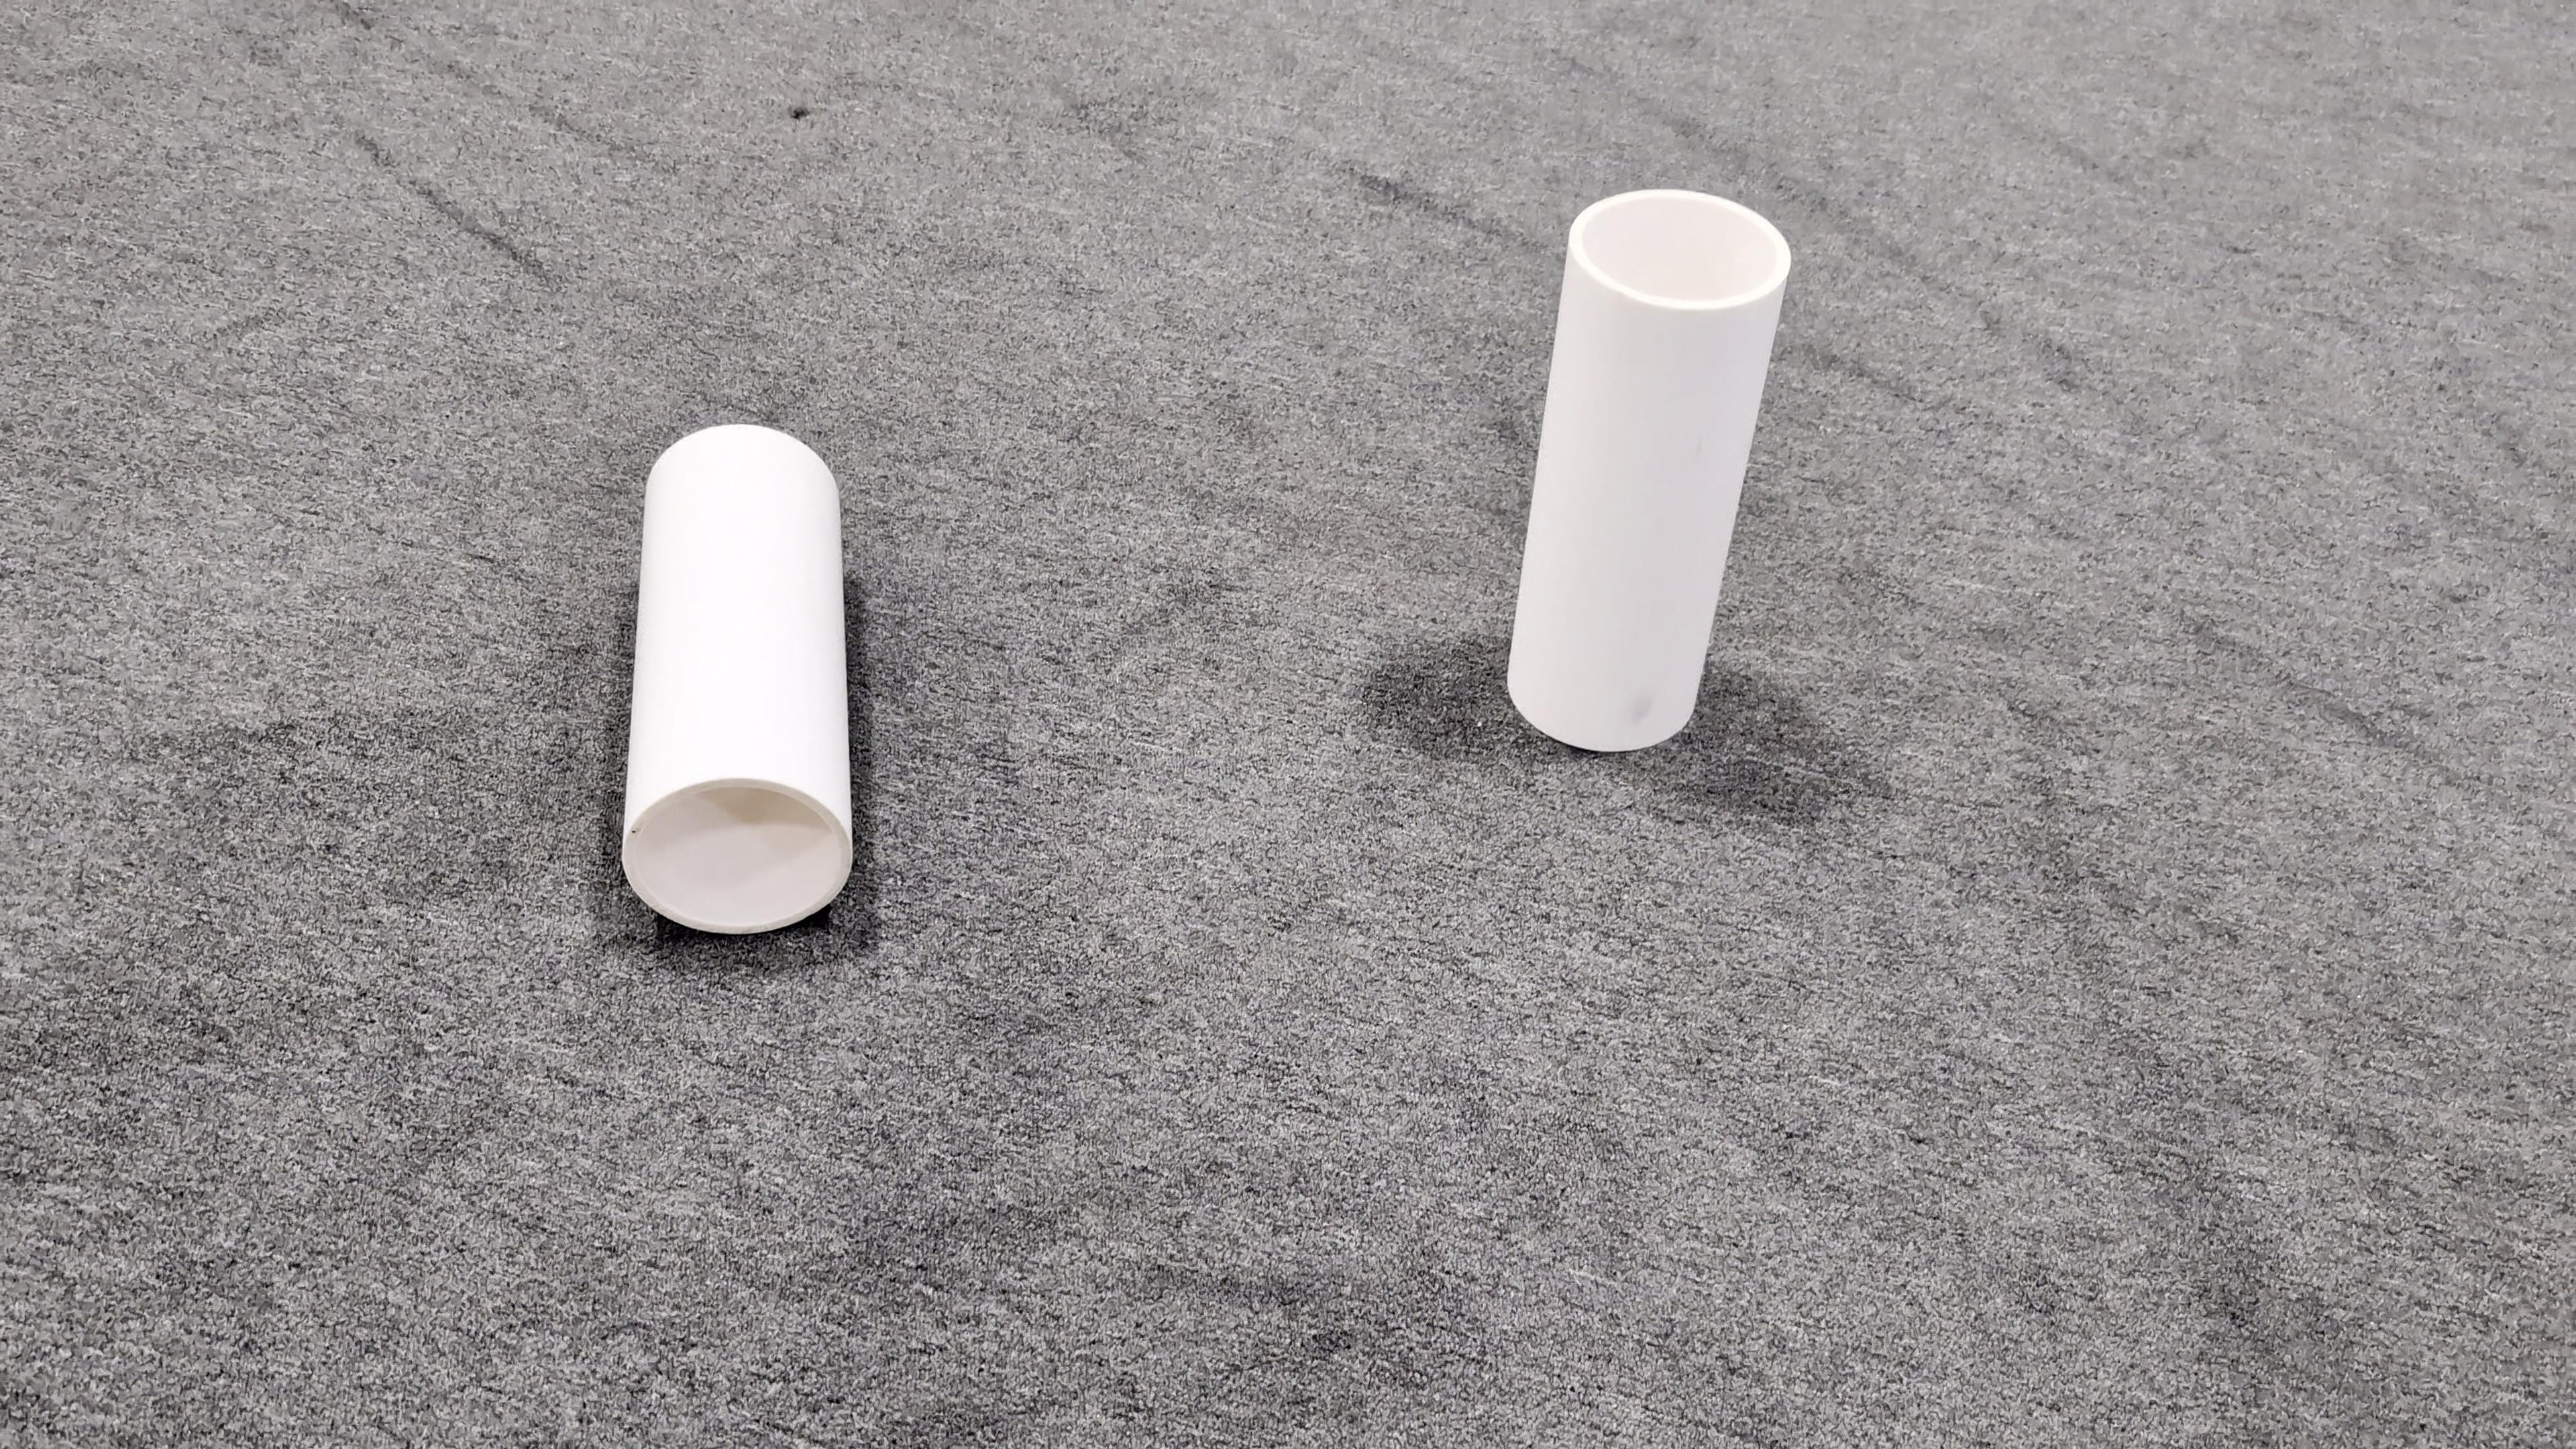coral: (1502, 189, 1792, 752), (619, 421, 856, 936)
